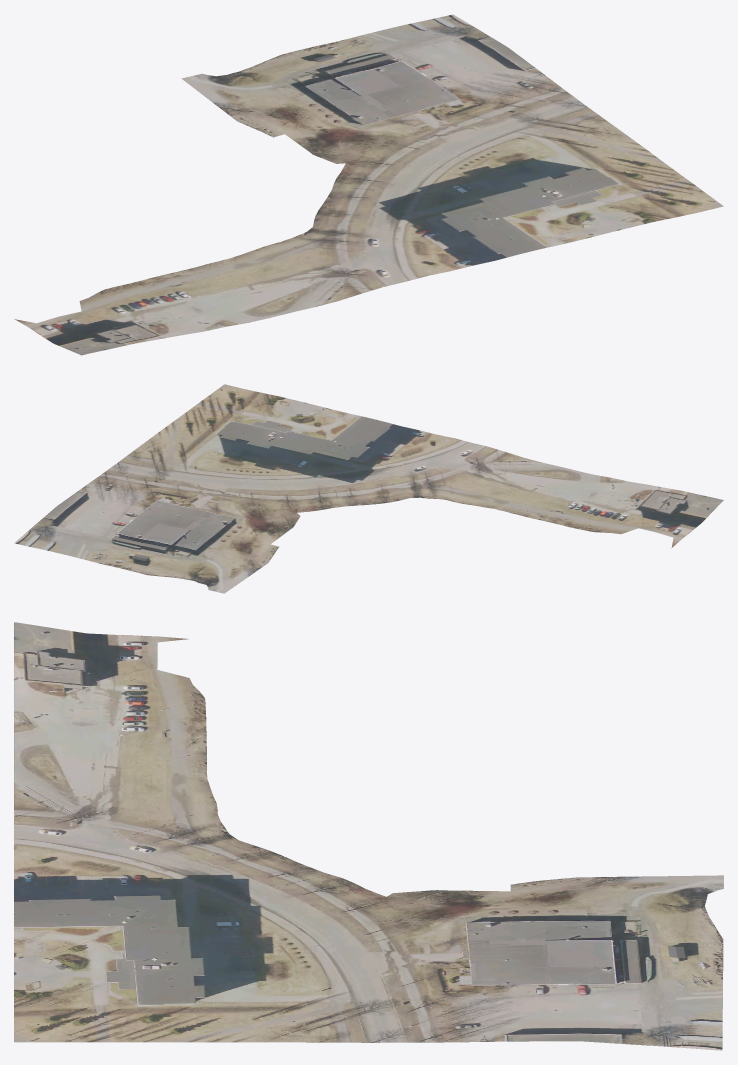
File: CM_Terrain_24486978_6819589.fbx
The picture shows the model from 3 angles, top to bottom: view 1: azimuth 30°, elevation 25°; view 2: azimuth 150°, elevation 25°; view 3: azimuth 270°, elevation 25°; orthographic projection. The views are drawn at different scales.
Parts seen in each view (by area): view 1: CM_Terrain_24486978_6819589_LOD0; view 2: CM_Terrain_24486978_6819589_LOD0; view 3: CM_Terrain_24486978_6819589_LOD0.
Boxes of the visible parts, left/top/right/bottom form: CM_Terrain_24486978_6819589_LOD0: left=14, top=14, right=723, bottom=355; CM_Terrain_24486978_6819589_LOD0: left=14, top=384, right=723, bottom=593; CM_Terrain_24486978_6819589_LOD0: left=14, top=622, right=723, bottom=1050.
Size of what is drawn, in the model's own units: 205 by 4.33 by 150.
